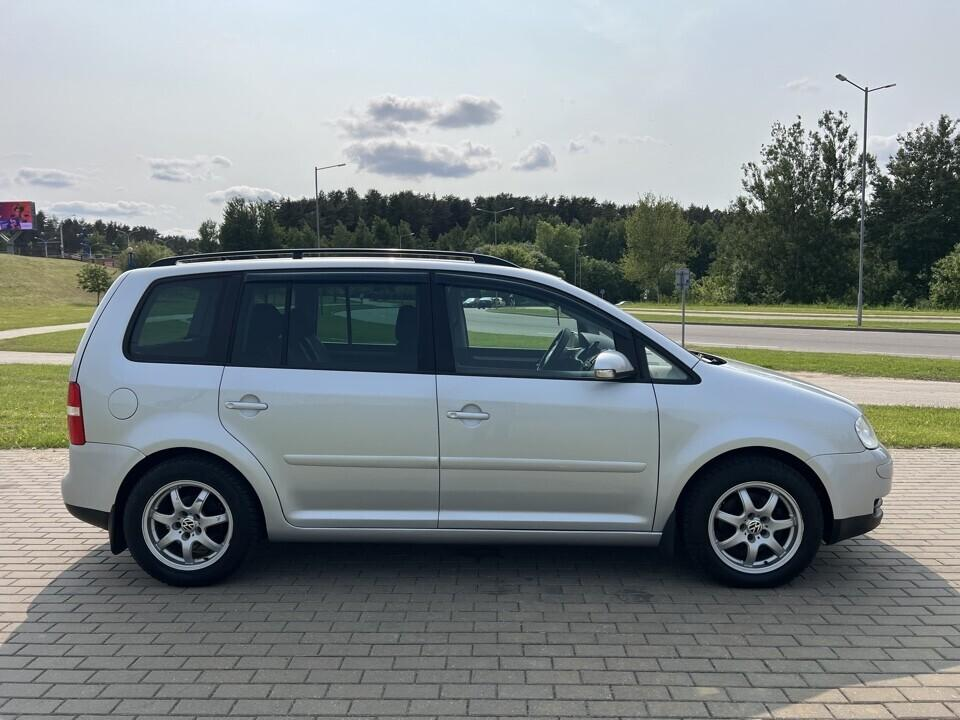Touran_2003-2006: (60, 247, 892, 590)
